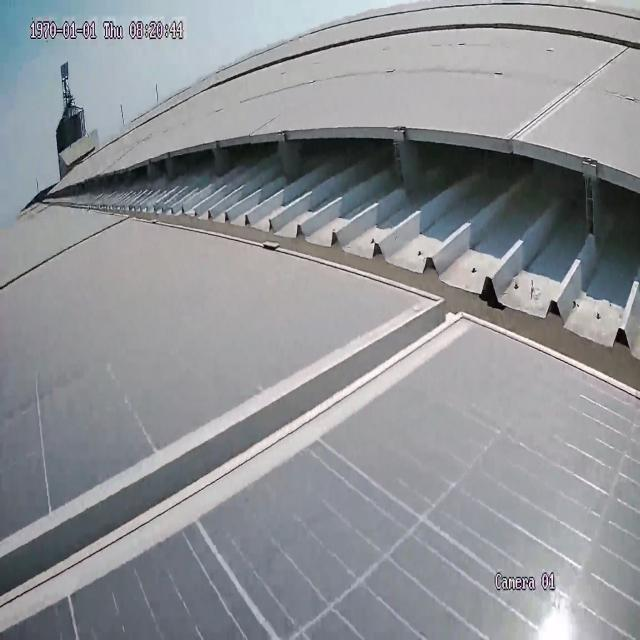interior panel: (0, 294, 471, 635), (496, 41, 632, 140)
outher panel: (37, 133, 640, 389)
